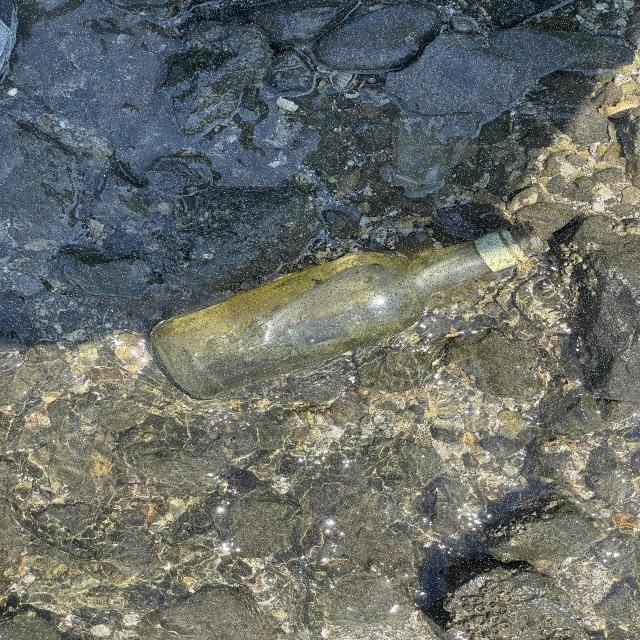glass_waste: (147, 221, 553, 405)
